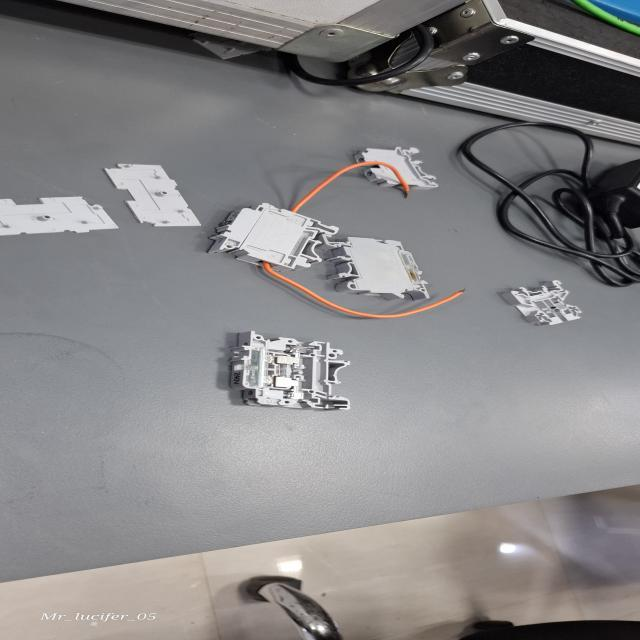Inverted: (330, 138, 458, 198)
Reject: (486, 273, 617, 335)
